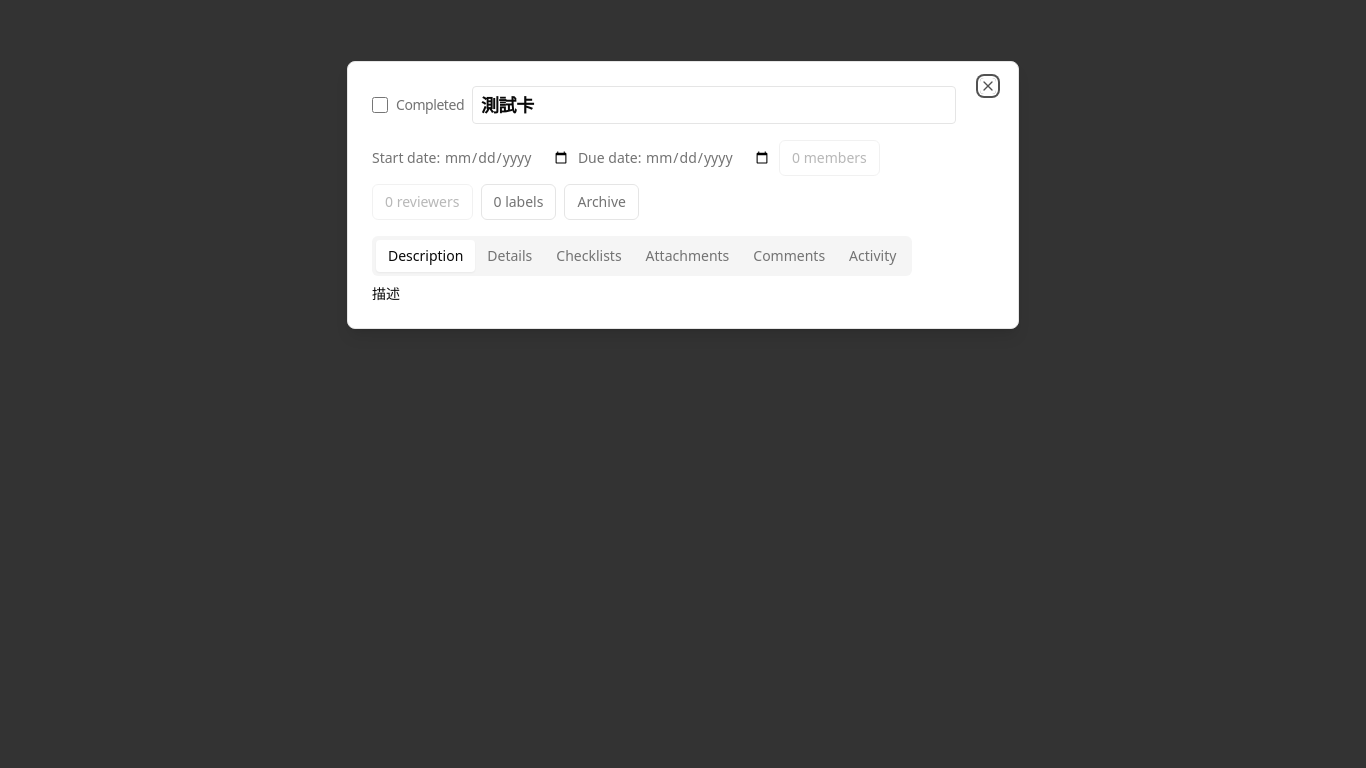
Test: 活動牆的標籤是小寫謂語，接在人名之後讀成一句英文 › en 之下的活動串是 `admin created the card`，不是 `Created the card`
The width and height of the screenshot is (1366, 768).
Expected: the field showing "測試卡" is shown, x1=472 y1=86 x2=956 y2=124
Press the mouse on the tab "Activity" at (873, 256), box x1=837 y1=240 x2=908 y2=272
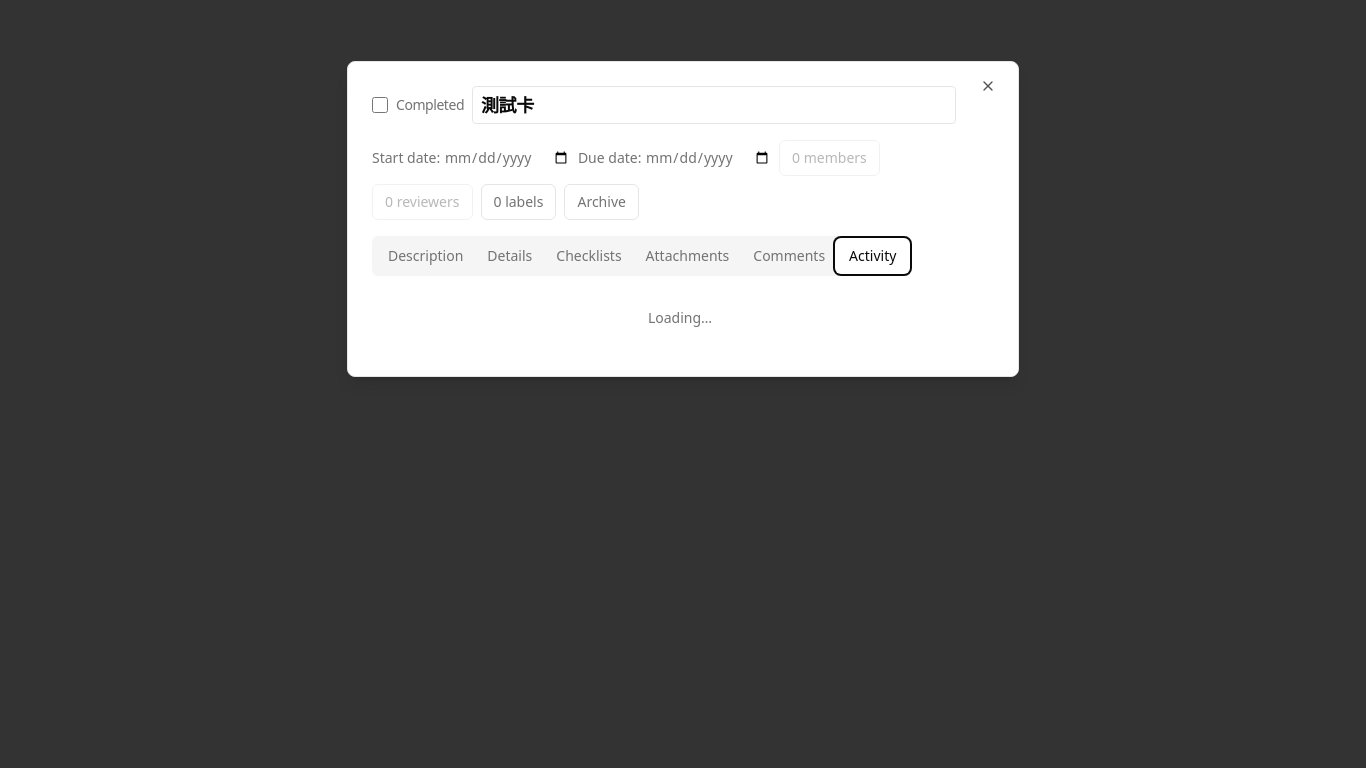
Click the tab "Activity" at (873, 256), box x1=837 y1=240 x2=908 y2=272
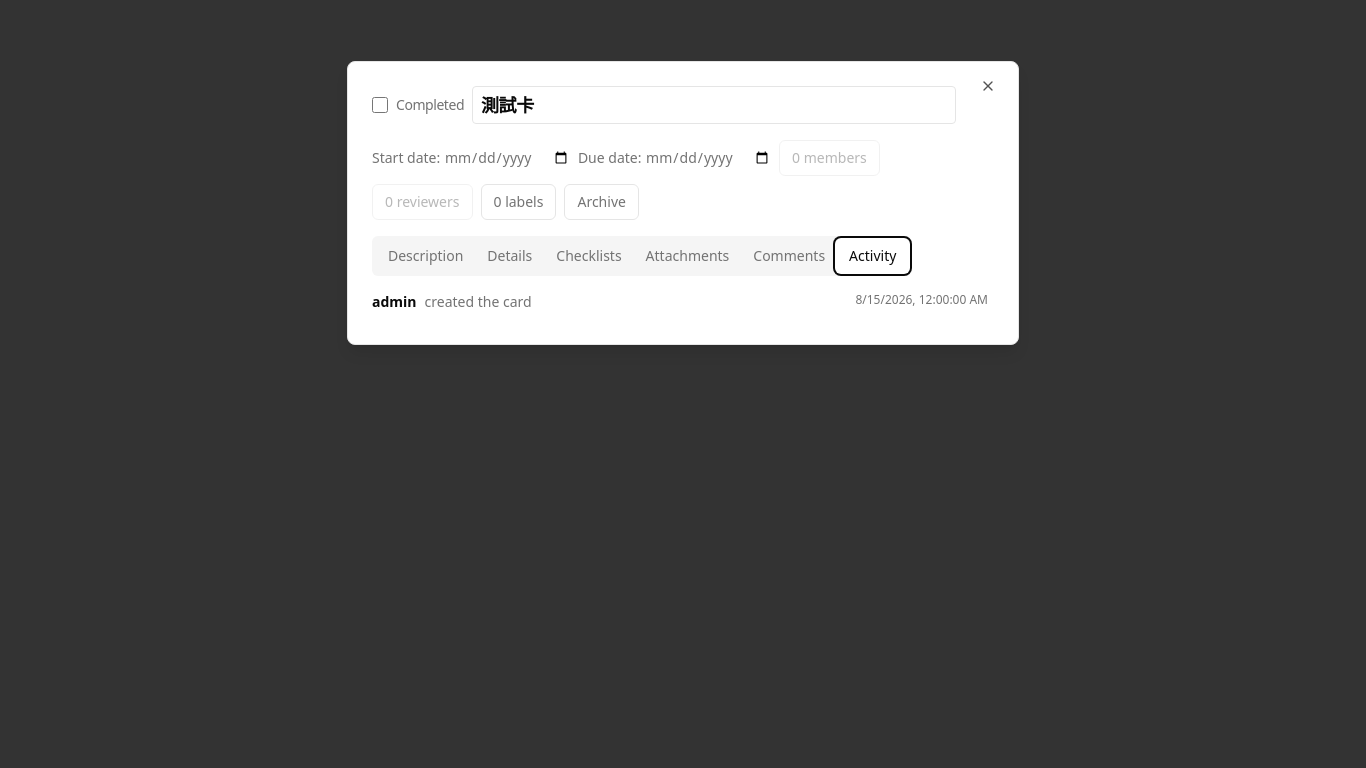
Now the text "created the card" is shown, box x1=424 y1=292 x2=532 y2=312
